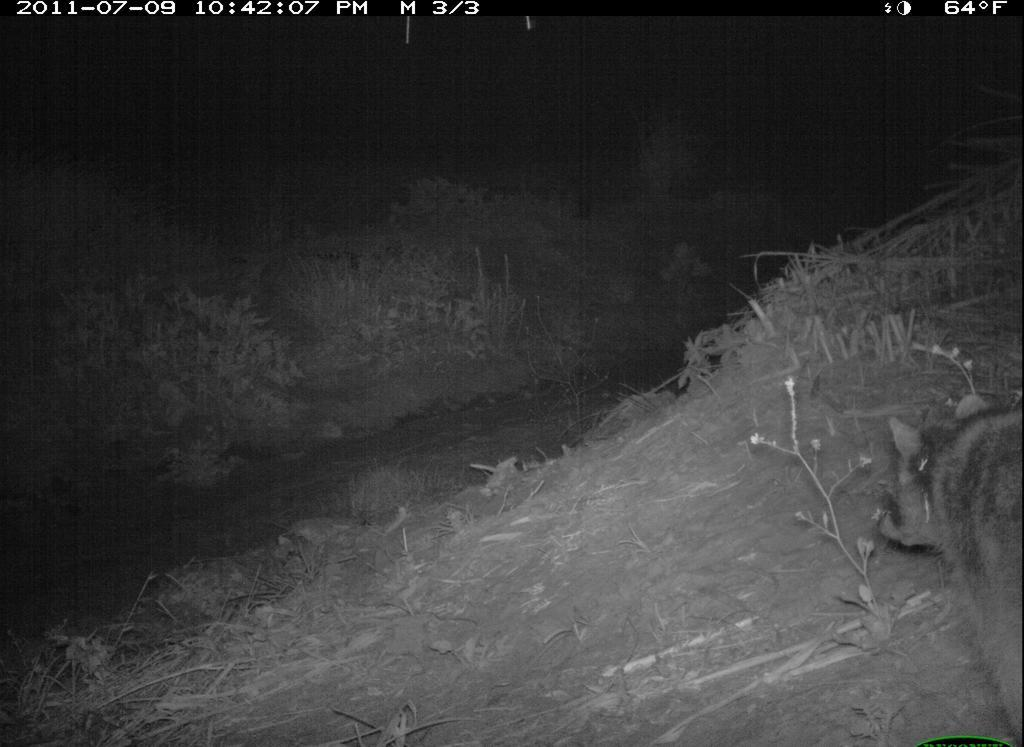raccoon: (867, 382, 1022, 745)
